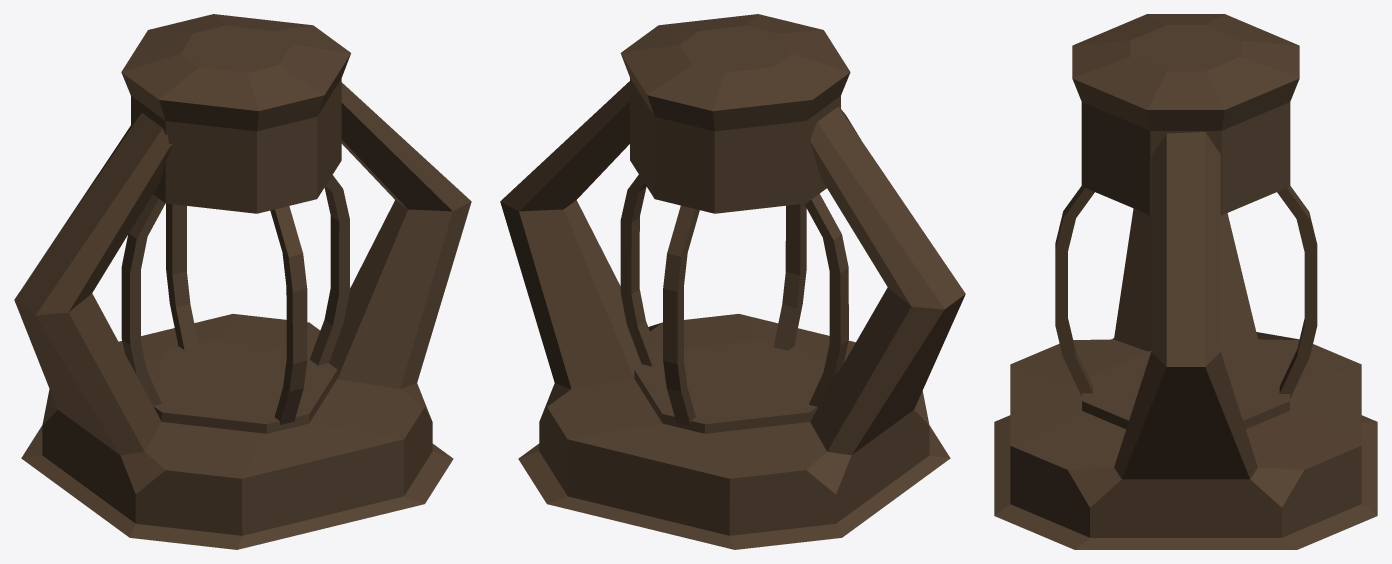
File: Tree.fbx
The picture shows the model from 3 angles, left to right: view 1: azimuth 30°, elevation 25°; view 2: azimuth 150°, elevation 25°; view 3: azimuth 270°, elevation 25°; orthographic projection. The views are drawn at different scales.
Parts seen in each view (by area): view 1: Cube.001; view 2: Cube.001; view 3: Cube.001.
Boxes of the visible parts, x1=… form: Cube.001: x1=14, y1=14, x2=471, y2=549; Cube.001: x1=500, y1=14, x2=965, y2=549; Cube.001: x1=994, y1=14, x2=1377, y2=549.
Bounding box in the file's own units: 219 × 194 × 161.
